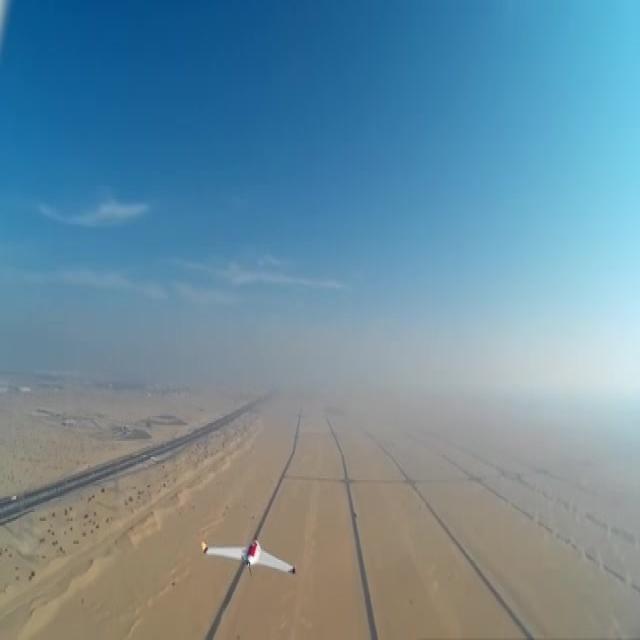iha: (233, 539, 264, 575)
